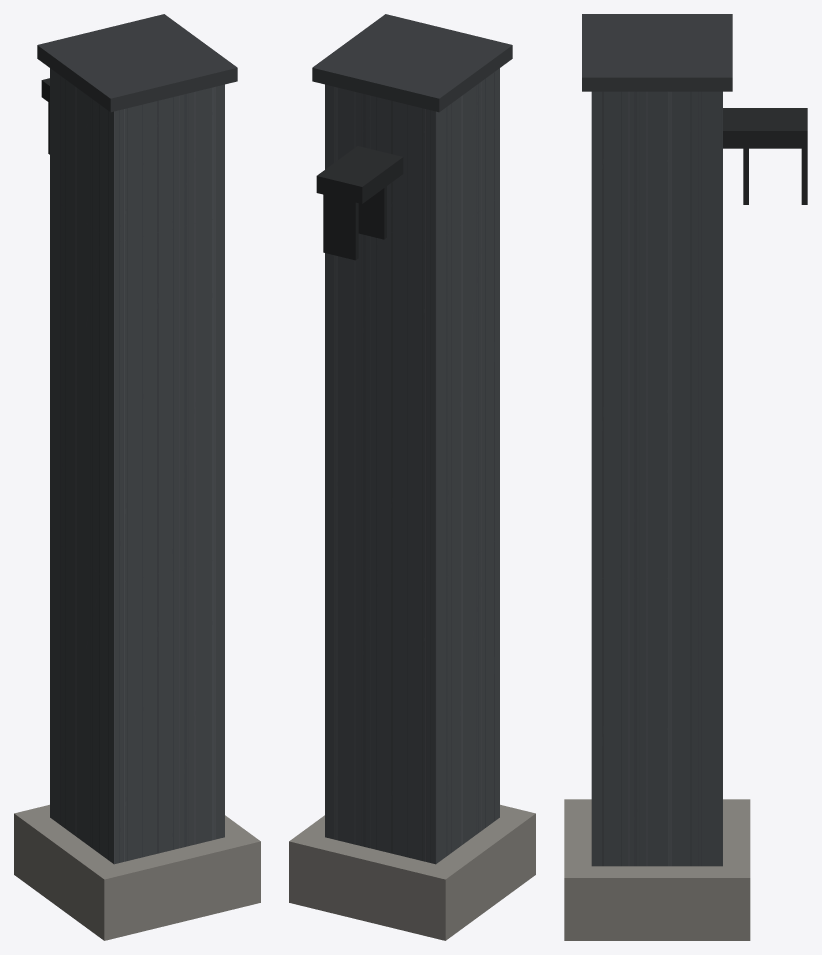
File: MinidoracatKnoxPass_slidepost1_F.glb
3 views of the same model, side by side, from view 1: azimuth 30°, elevation 25°; view 2: azimuth 150°, elevation 25°; view 3: azimuth 270°, elevation 25° (orthographic). The views are drawn at different scales.
Parts seen in each view (by area): view 1: MinidoracatKnoxPass_slidepost1_F; view 2: MinidoracatKnoxPass_slidepost1_F; view 3: MinidoracatKnoxPass_slidepost1_F.
Boxes of the visible parts, x1=… form: MinidoracatKnoxPass_slidepost1_F: x1=14, y1=14, x2=260, y2=940; MinidoracatKnoxPass_slidepost1_F: x1=289, y1=14, x2=535, y2=940; MinidoracatKnoxPass_slidepost1_F: x1=564, y1=14, x2=807, y2=940.
Bounding box in the file's own units: 0.48 × 2.44 × 0.628.
1 material, 1 textured.
